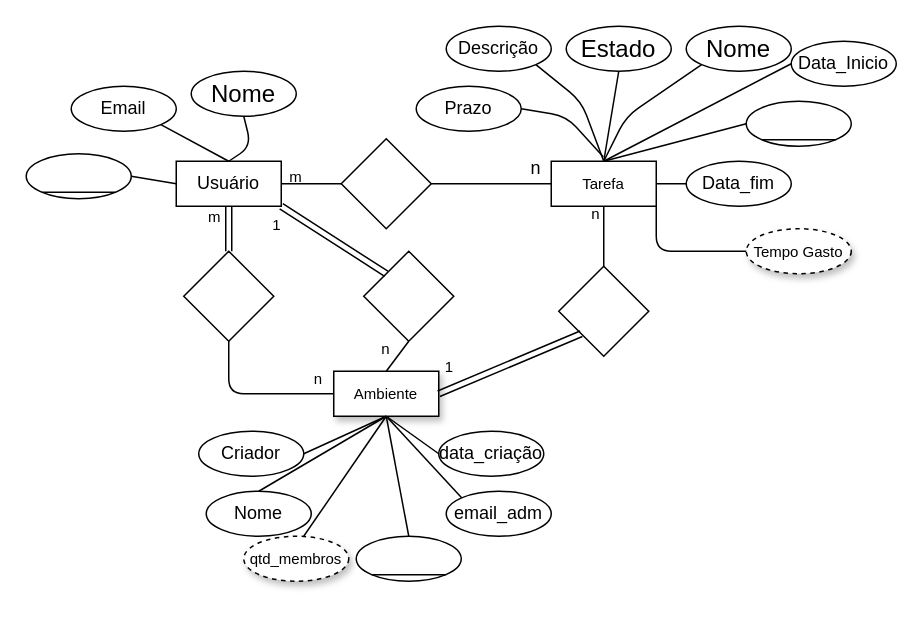
The diagram is 923 pixels wide and 618 high, and some of its shapes have lost their labels. The centre of each missing label's shape, as x and y in pixels:
"Administrar" goes at (x=408, y=295).
"Atribuído" goes at (x=385, y=183).
"id_ambiente" goes at (x=408, y=558).
"Id_Tarefa" goes at (x=798, y=123).
"n° telefone" goes at (x=78, y=175).
"Pertence" goes at (x=228, y=295).
"Possuí" goes at (x=603, y=310).
